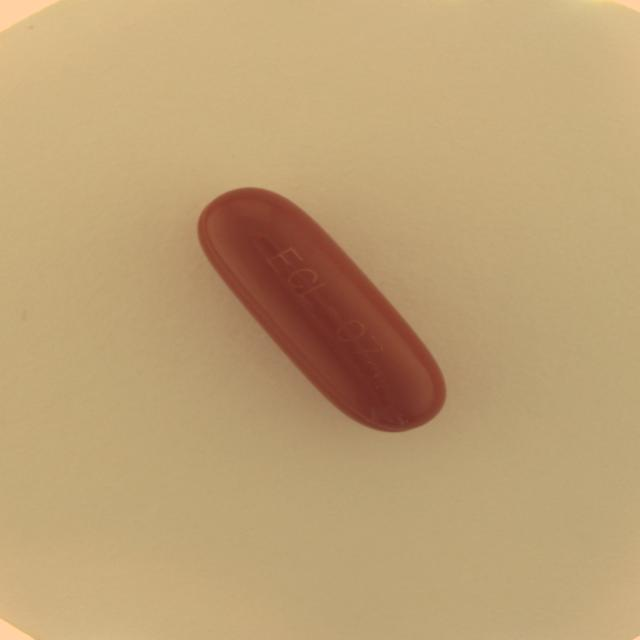Oval: (197, 186, 445, 436)
